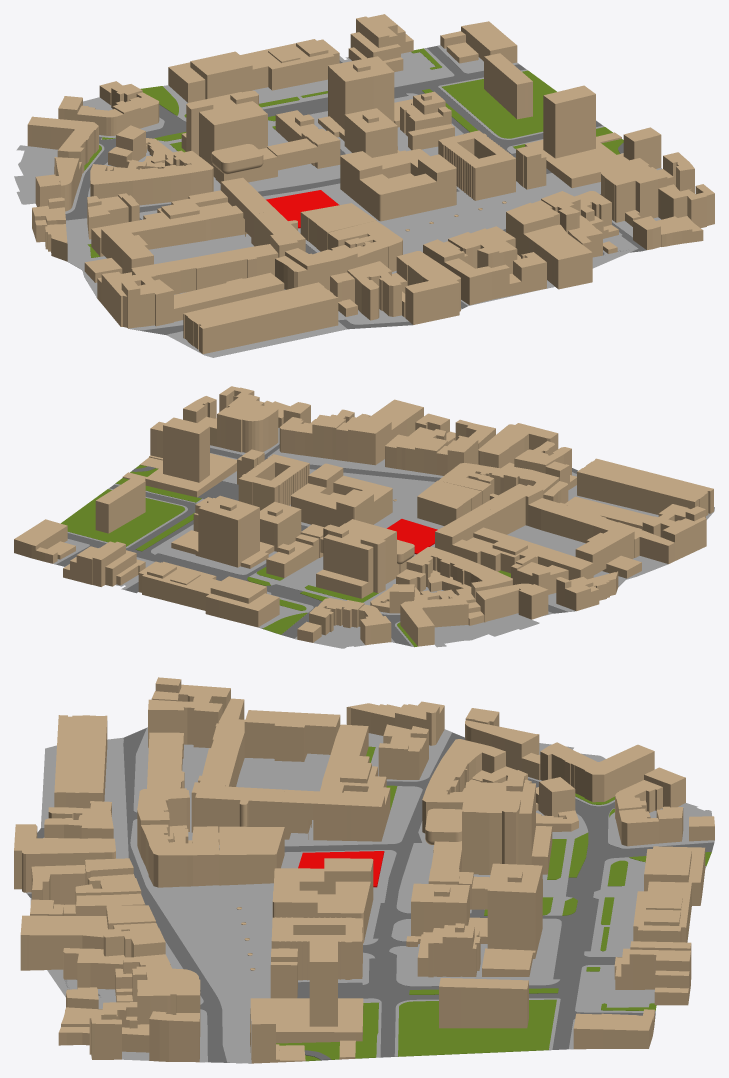
File: RUR_Usti.obj
The picture shows the model from 3 angles, top to bottom: view 1: azimuth 30°, elevation 25°; view 2: azimuth 150°, elevation 25°; view 3: azimuth 270°, elevation 25°; orthographic projection. The views are drawn at different scales.
Parts seen in each view (by area): view 1: Mesh1 Model; view 2: Mesh1 Model; view 3: Mesh1 Model.
Boxes of the visible parts, x1,y1,x2,y2 form: Mesh1 Model: (14,14,714,357); Mesh1 Model: (14,386,714,648); Mesh1 Model: (14,677,714,1063).
Bounding box in the file's own units: 416 × 49.38 × 369.
